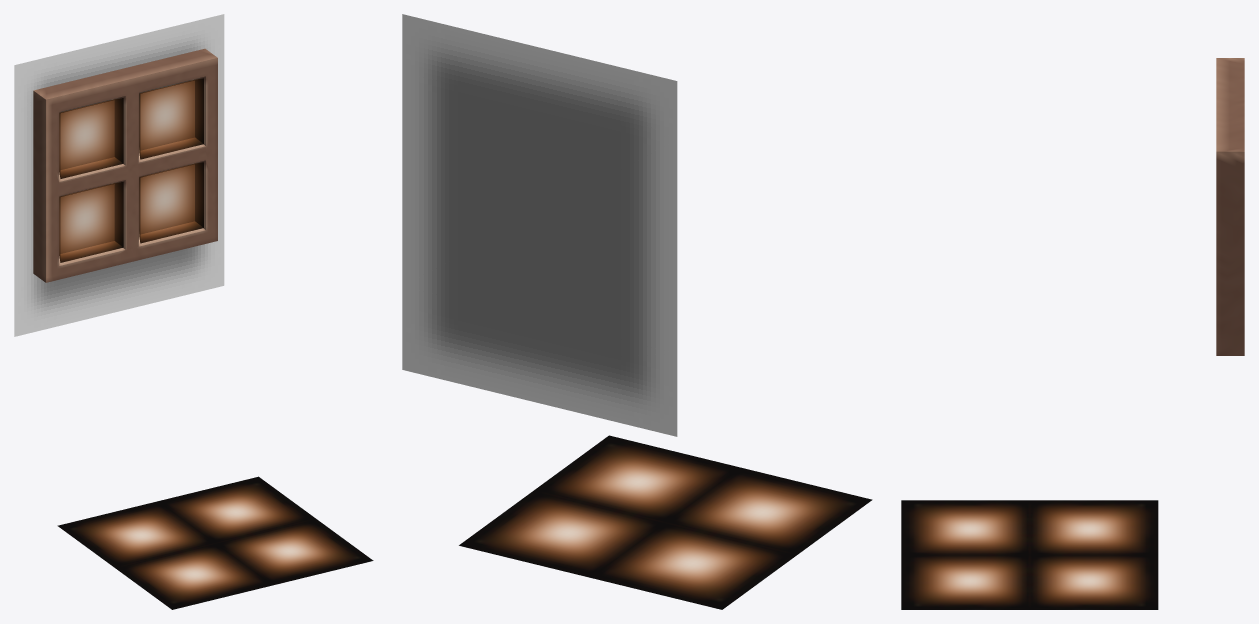
File: window1.fbx
3 views of the same model, side by side, from view 1: azimuth 30°, elevation 25°; view 2: azimuth 150°, elevation 25°; view 3: azimuth 270°, elevation 25° (orthographic). The views are drawn at different scales.
Parts seen in each view (by area): view 1: add, shadow, window; view 2: shadow, add; view 3: add, window.
Part boxes in pixels (x1=…): add: x1=57, y1=78, x2=373, y2=609; shadow: x1=14, y1=14, x2=224, y2=336; window: x1=33, y1=48, x2=217, y2=282; shadow: x1=402, y1=14, x2=677, y2=436; add: x1=459, y1=435, x2=872, y2=609; add: x1=901, y1=500, x2=1158, y2=609; window: x1=1216, y1=58, x2=1244, y2=355.
Bounding box in the file's own units: 0.929 × 1.83 × 1.18.
